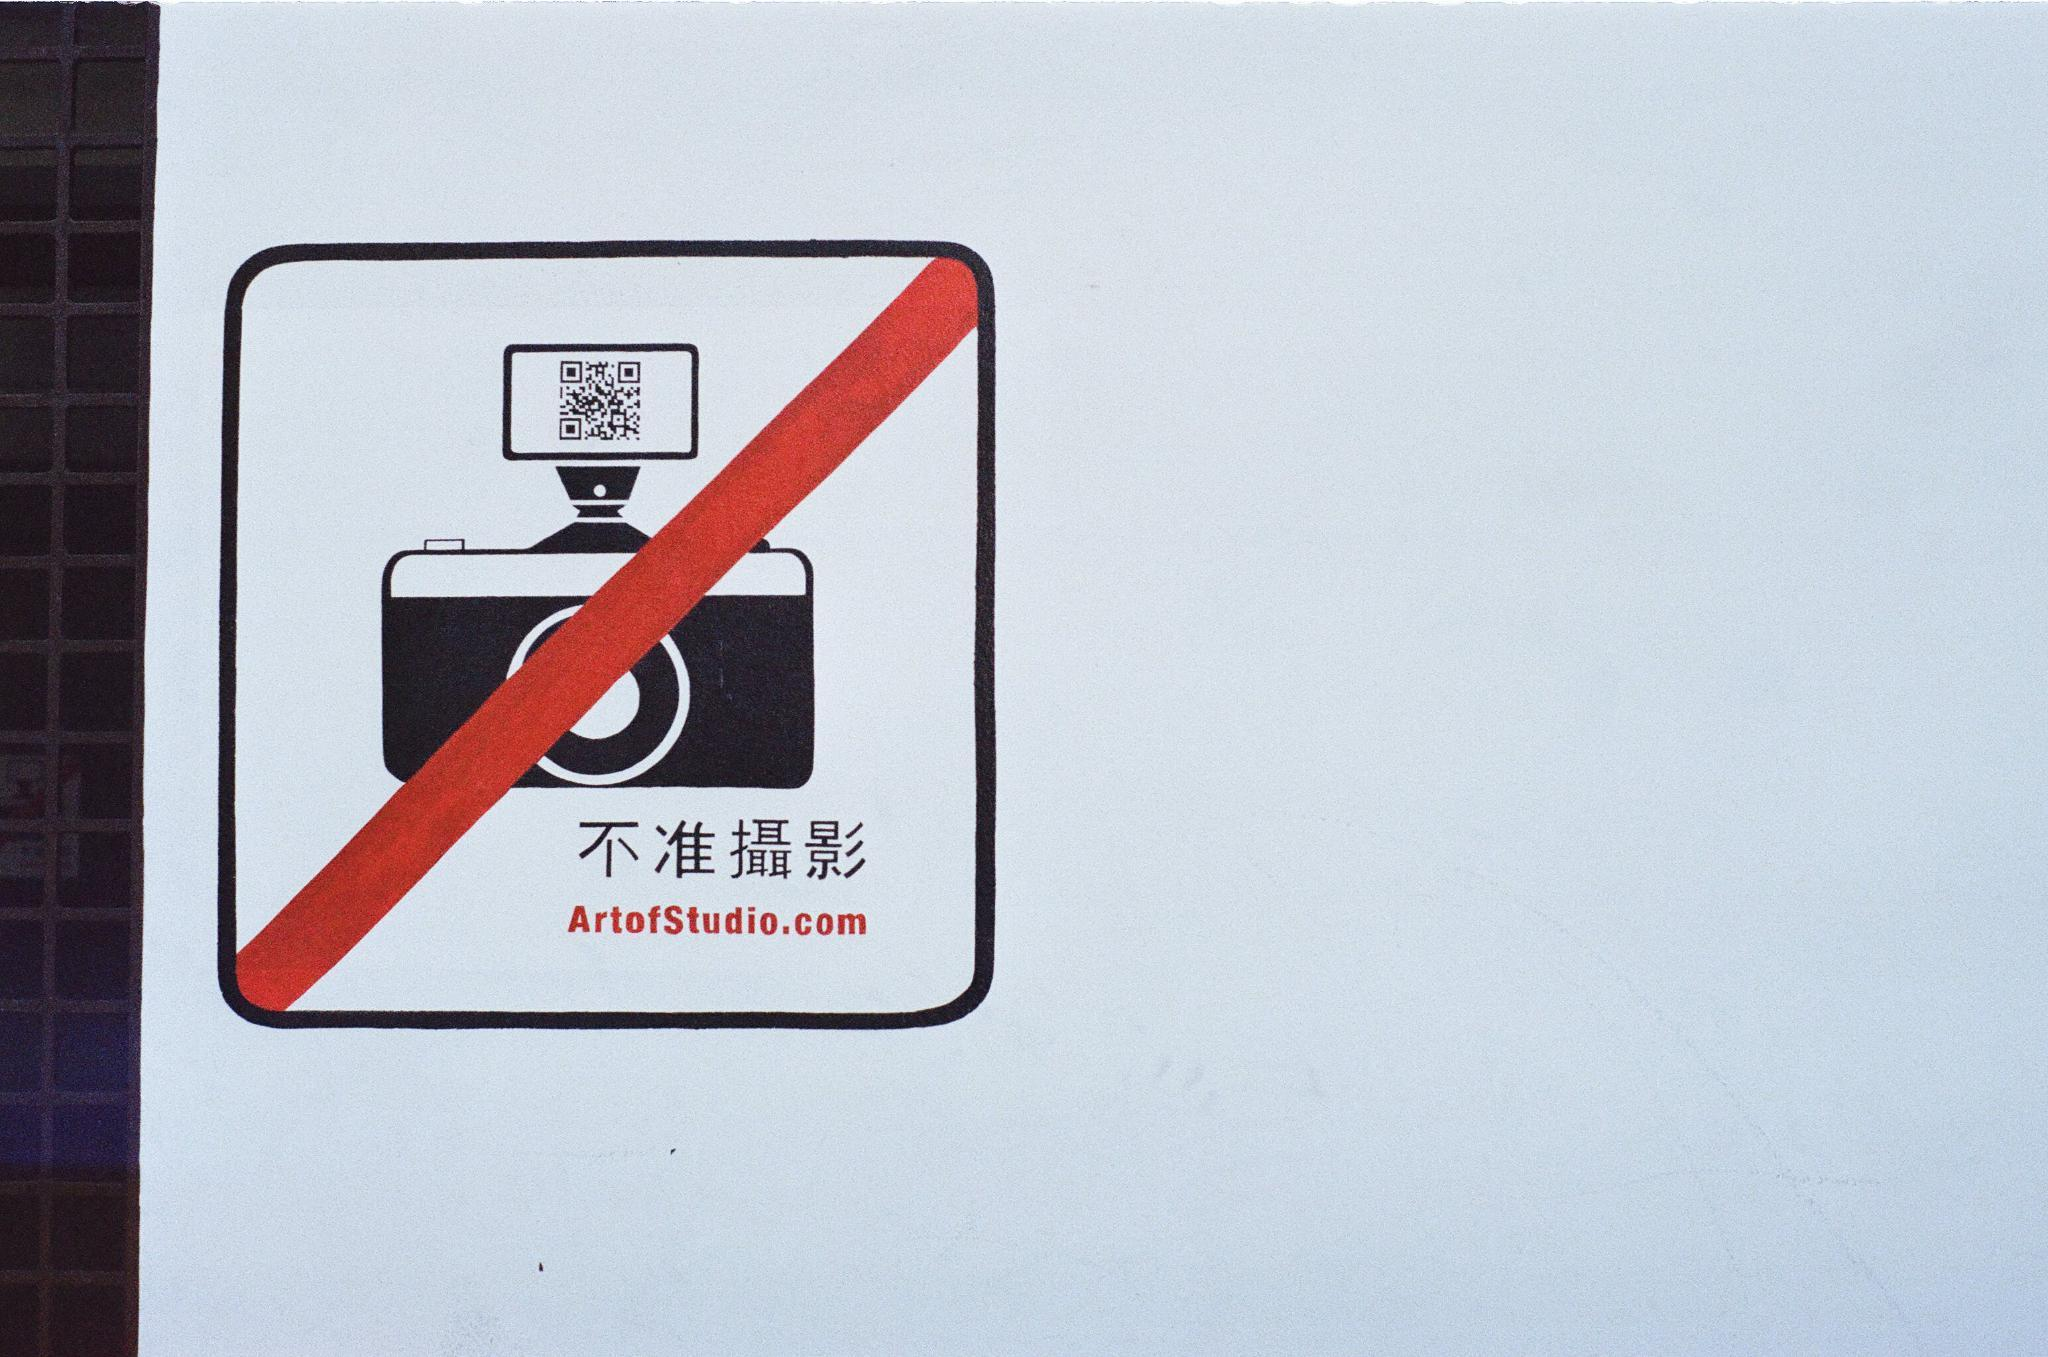qr_code: (559, 360, 642, 439)
